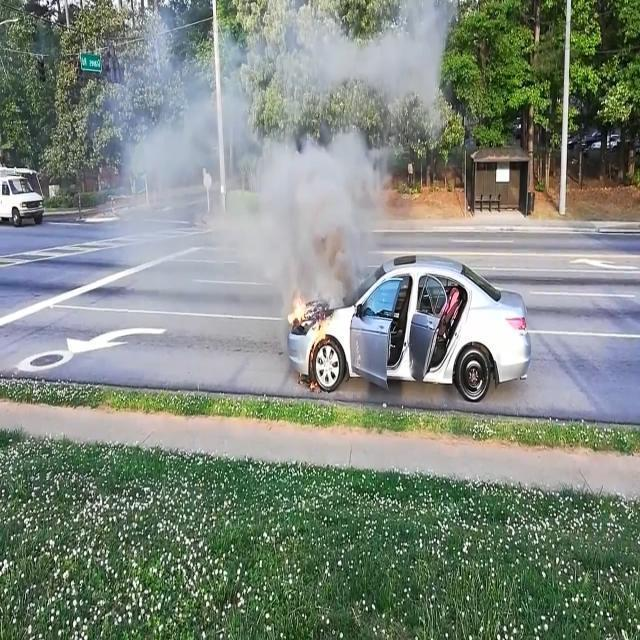fire: (281, 293, 336, 391)
